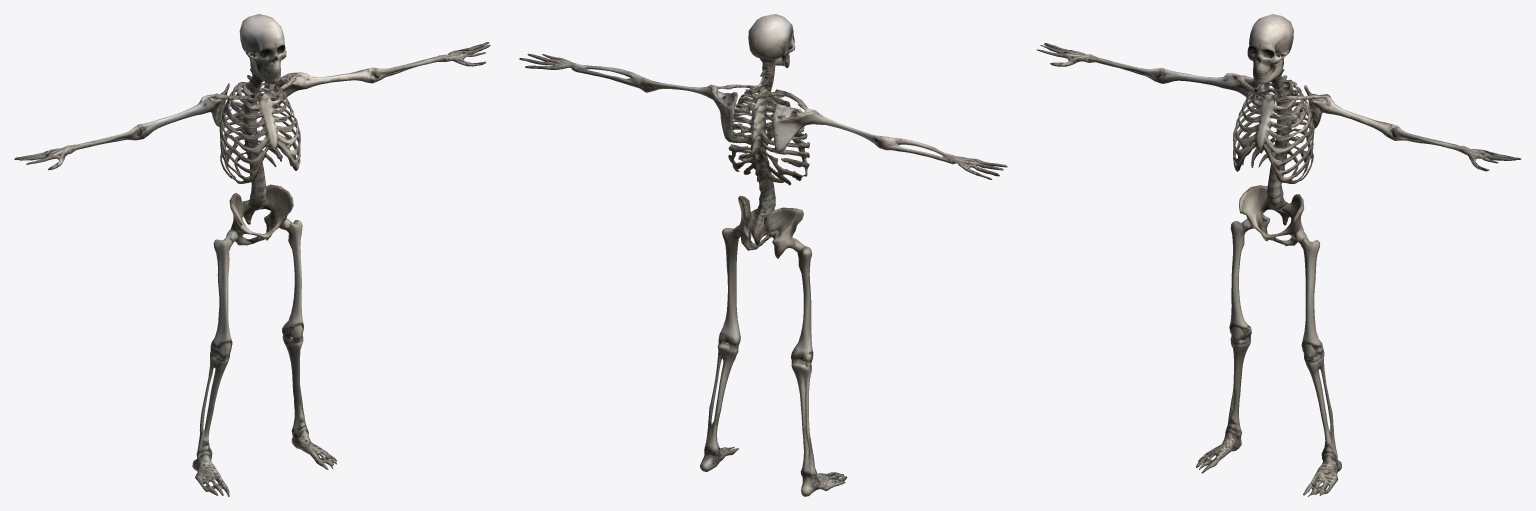
3 renders of one model, left to right at view 1: azimuth 30°, elevation 25°; view 2: azimuth 150°, elevation 25°; view 3: azimuth 330°, elevation 25°, orthographic.
Bounding box in the file's own units: 2.03 × 1.84 × 0.2698.
1 material, 1 textured.
